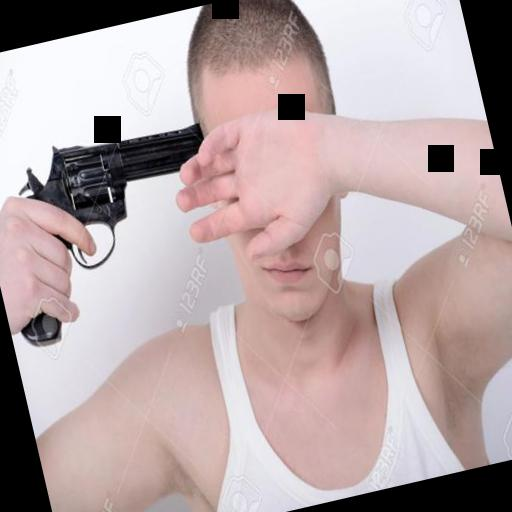Handgun: (0, 120, 241, 351)
